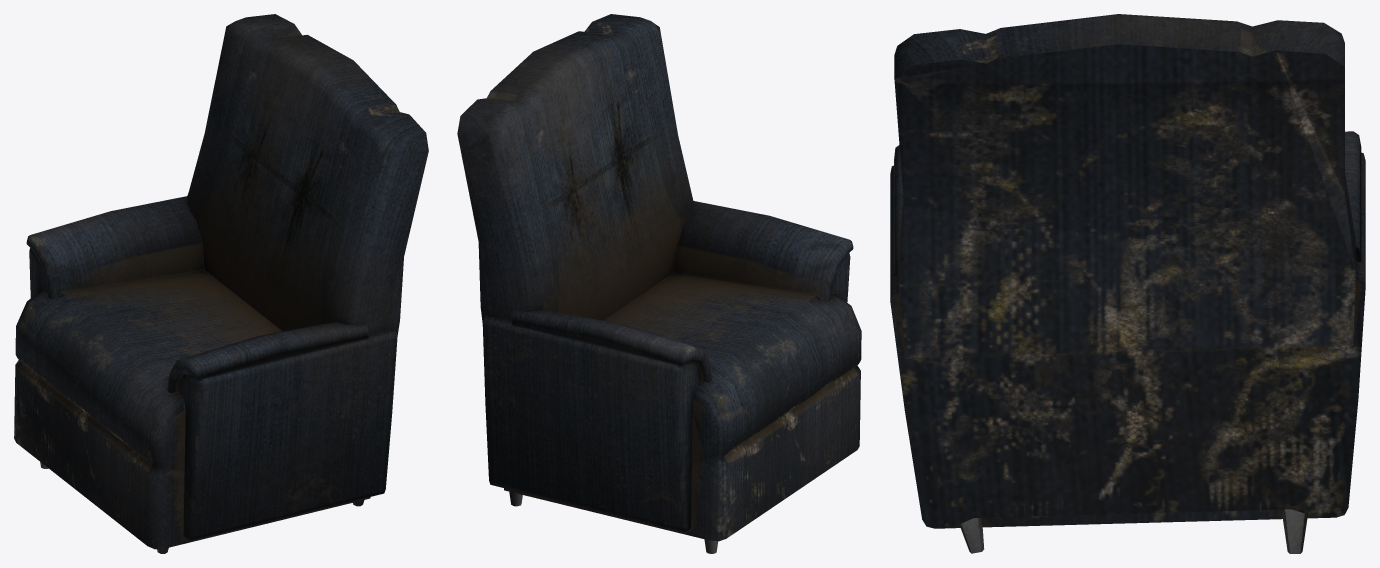
The model's file is OldCouch.FBX.
The picture shows the model from 3 angles, left to right: view 1: azimuth 30°, elevation 25°; view 2: azimuth 150°, elevation 25°; view 3: azimuth 270°, elevation 25°; orthographic projection. The views are drawn at different scales.
Parts seen in each view (by area): view 1: OldCouch; view 2: OldCouch; view 3: OldCouch.
Boxes of the visible parts, x1,y1,x2,y2 form: OldCouch: (14,14,428,553); OldCouch: (457,14,861,553); OldCouch: (890,14,1365,553).
Size of the model in its own units: 77.8 by 112 by 88.24.
